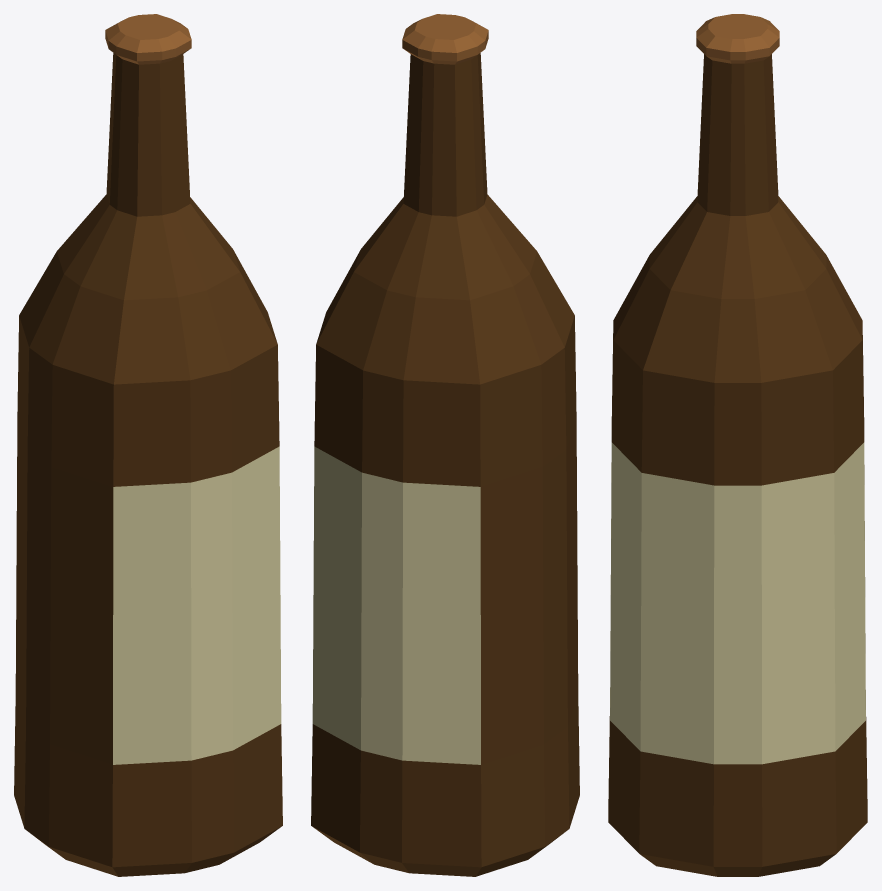
3 renders of one model, left to right at view 1: azimuth 30°, elevation 25°; view 2: azimuth 150°, elevation 25°; view 3: azimuth 270°, elevation 25°, orthographic.
Visible parts, largest first — view 1: F-29; view 2: F-29; view 3: F-29.
Boxes of the visible parts, x1,y1,x2,y2 form: F-29: (14,14,282,876); F-29: (311,14,579,876); F-29: (608,14,867,876).
Size of the model in its own units: 18.26 by 62.61 by 18.26.
